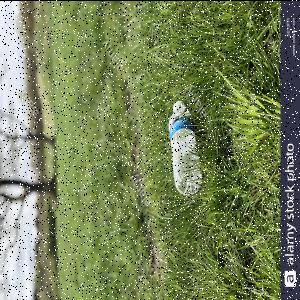Plastic-bottle: (169, 99, 205, 197)
